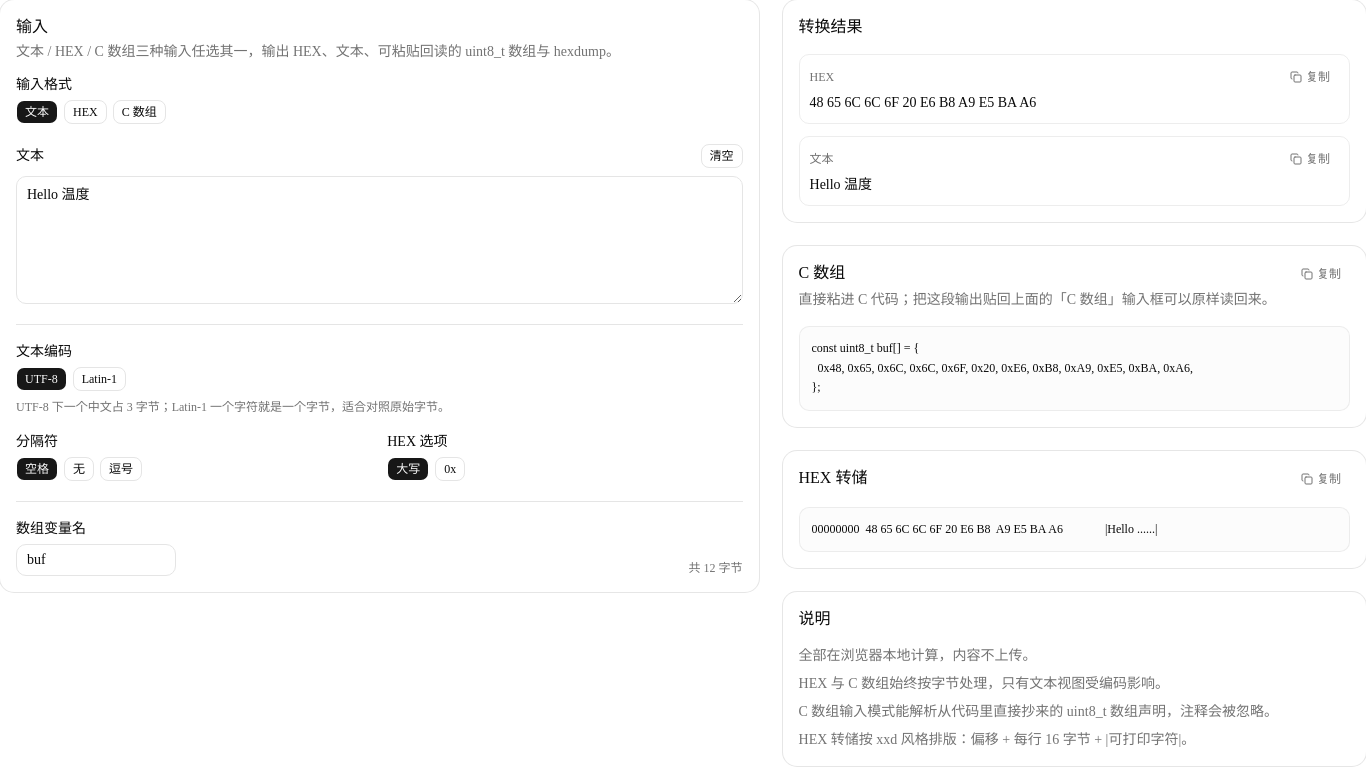
Test: hexAscii · 文本 → HEX › latin-1 下一个字符一个字节
Click the button "Latin-1".
click(99, 379)  # box top-left (73, 367), bottom-right (126, 391)
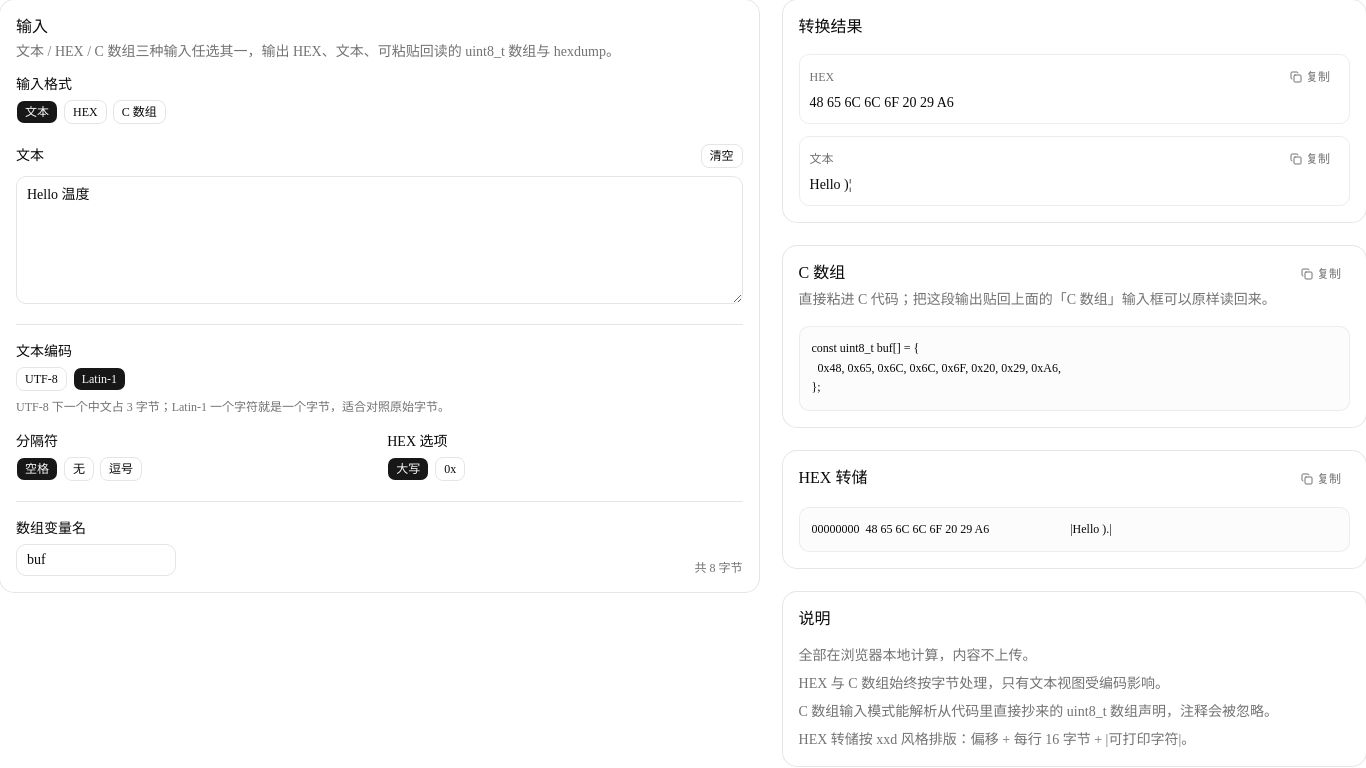
Replace the text in the text box with id "hexascii-input" with "AB" at x=379, y=240, box top-left (16, 176), bottom-right (742, 304)
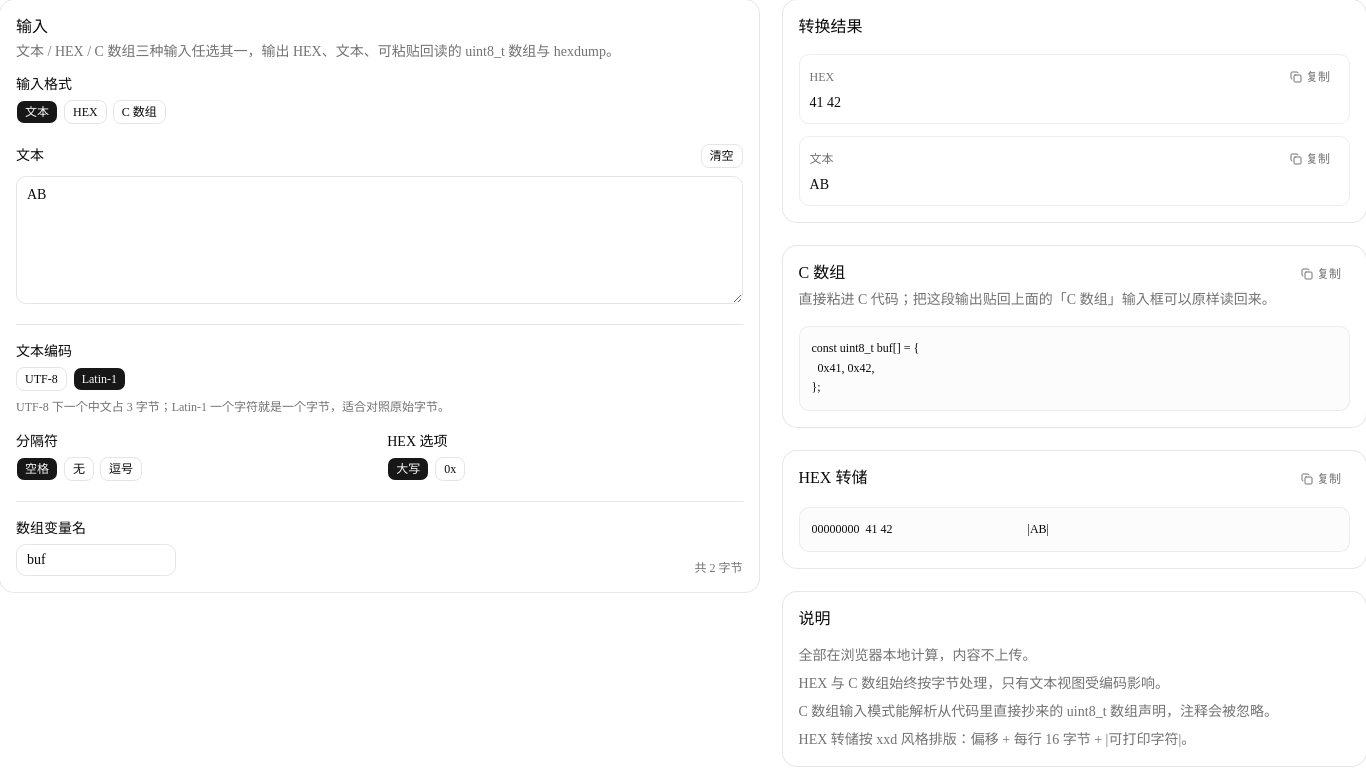
Result: the text "41 42" is shown at top-left (810, 95), bottom-right (841, 110)
